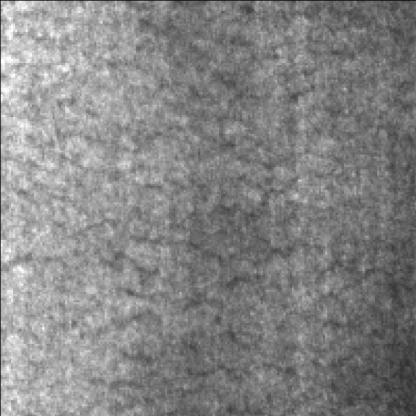crazing: (2, 200, 397, 374)
